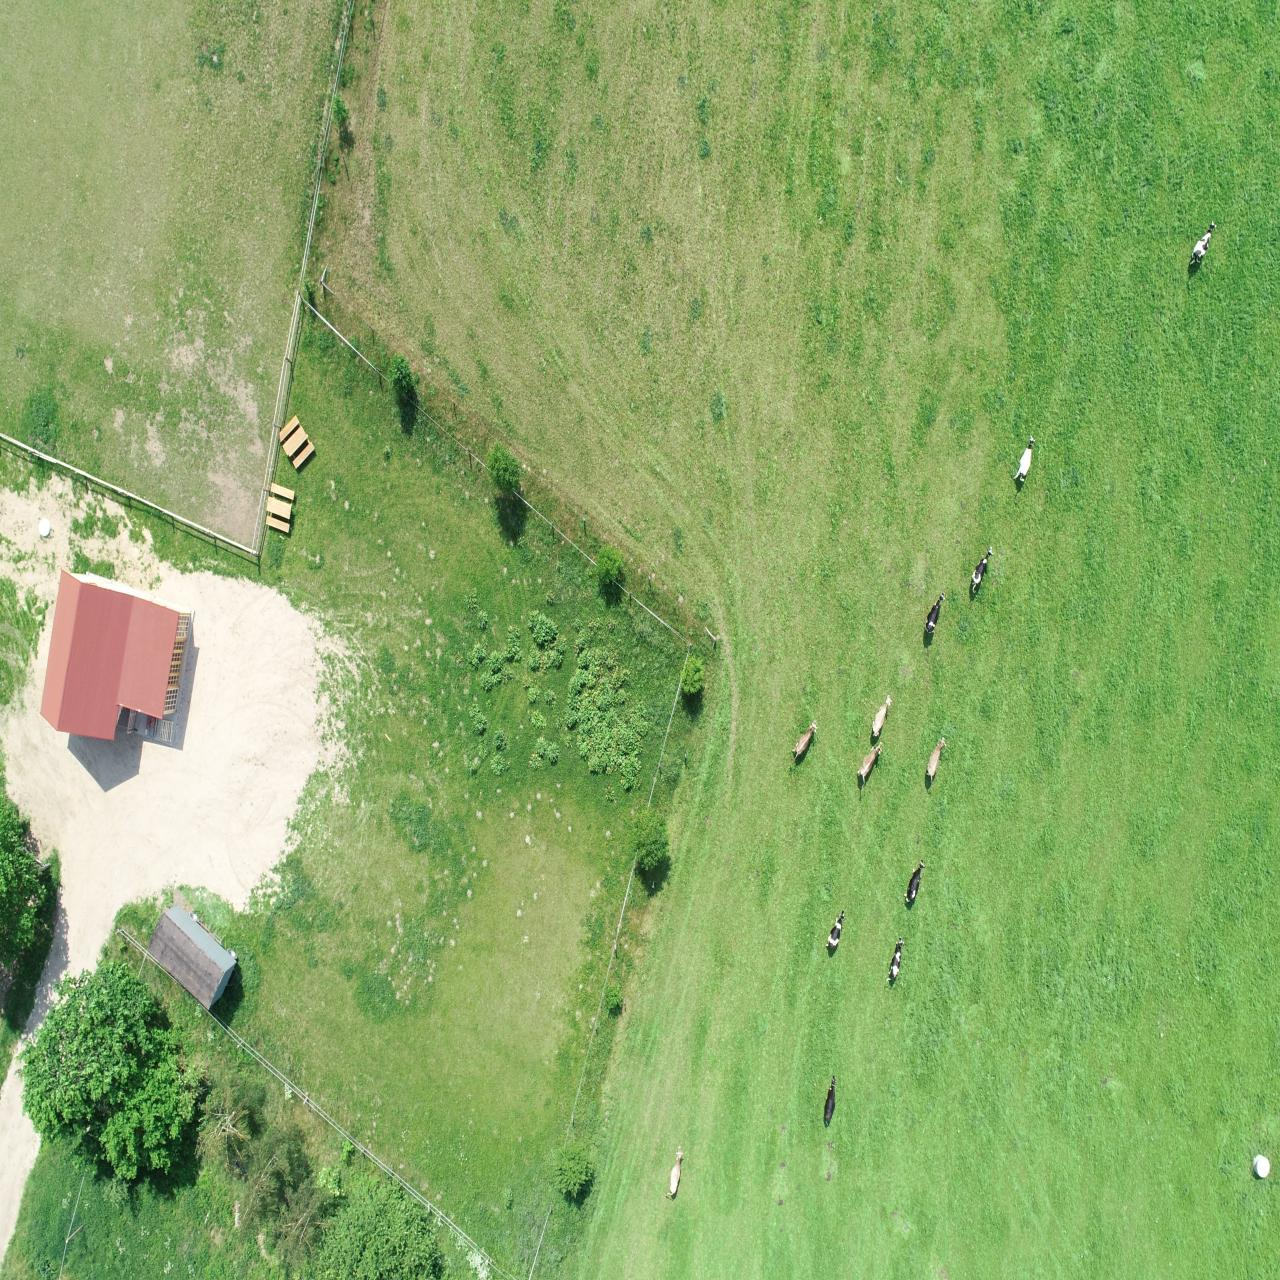cow: (1186, 218, 1221, 275), (855, 740, 884, 791), (789, 719, 823, 762), (663, 1144, 688, 1201), (1012, 434, 1036, 489), (922, 735, 948, 785), (968, 545, 994, 595), (901, 858, 928, 906), (883, 933, 906, 988), (822, 1071, 842, 1130), (824, 907, 849, 953), (921, 591, 947, 634), (869, 693, 893, 737)
